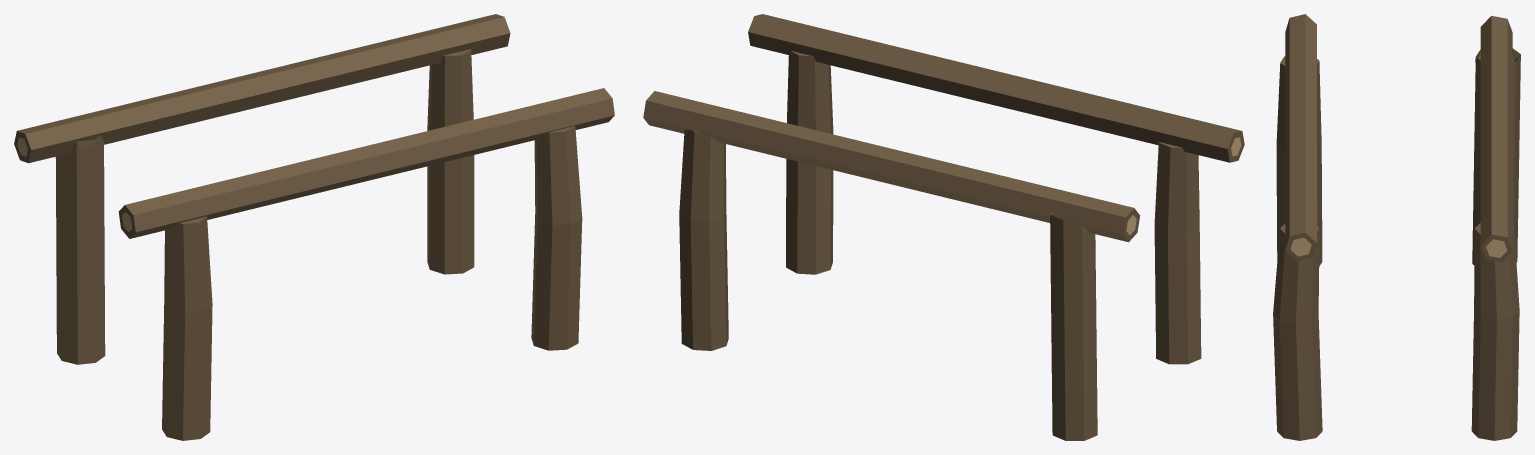
File: rpgpp_ag_wall_platform_01_2x4_support_01a.fbx
The picture shows the model from 3 angles, left to right: view 1: azimuth 30°, elevation 25°; view 2: azimuth 150°, elevation 25°; view 3: azimuth 270°, elevation 25°; orthographic projection. The views are drawn at different scales.
Visible parts, largest first — view 1: rpgpp_ag_wall_platform_01_2x4_support_01a; view 2: rpgpp_ag_wall_platform_01_2x4_support_01a; view 3: rpgpp_ag_wall_platform_01_2x4_support_01a.
Boxes of the visible parts, left/top/right/bottom form: rpgpp_ag_wall_platform_01_2x4_support_01a: left=14, top=14, right=614, bottom=440; rpgpp_ag_wall_platform_01_2x4_support_01a: left=643, top=14, right=1244, bottom=440; rpgpp_ag_wall_platform_01_2x4_support_01a: left=1273, top=14, right=1520, bottom=440.
Bounding box in the file's own units: 4 × 1.9 × 1.92.
